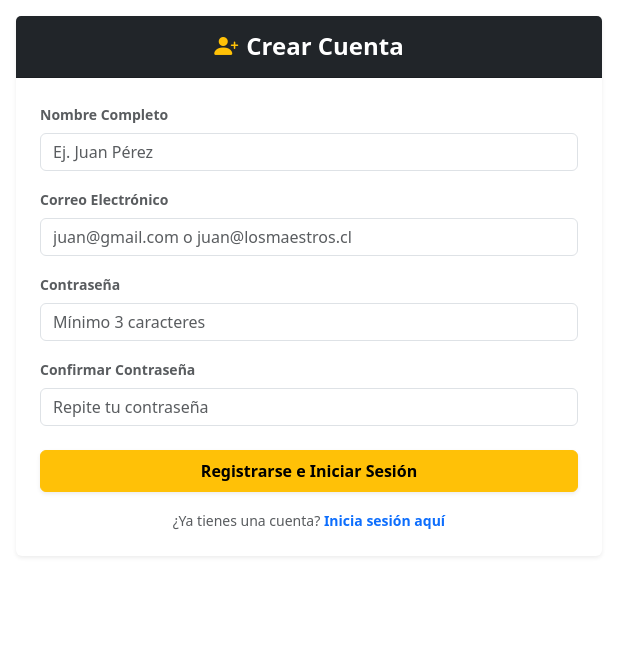
Test: Pruebas Unitarias - Componente Registro › 3. Debe mostrar mensajes de error si se envía el formulario vacío
The image size is (619, 650).
Click the button "Registrarse e Iniciar Sesión".
click(309, 471)  # box 40,450 -> 578,492
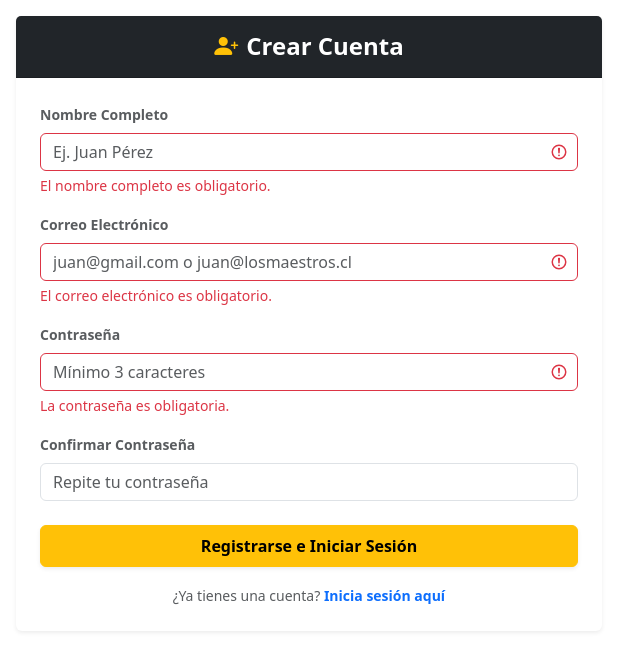
Check: the text "El nombre completo es obligatorio." is shown, box 40,176 -> 271,195
Check: the text "El correo electrónico es obligatorio." is shown, box 40,286 -> 272,305
Check: the text "La contraseña es obligatoria." is shown, box 40,396 -> 229,415
